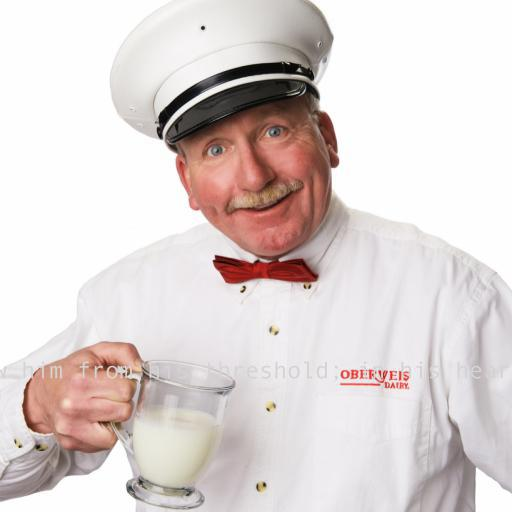Andale Mono: (0, 361, 512, 382)
